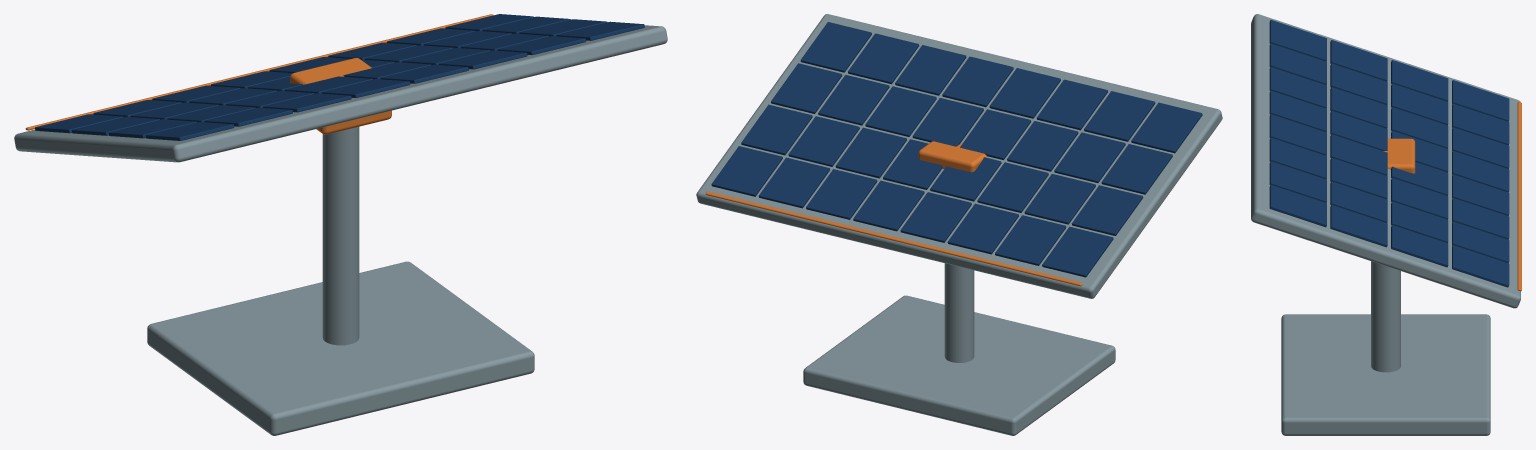
The model's file is solar-array.glb.
The picture shows the model from 3 angles, left to right: view 1: azimuth 30°, elevation 25°; view 2: azimuth 150°, elevation 25°; view 3: azimuth 270°, elevation 25°; orthographic projection. The views are drawn at different scales.
Visible parts, largest first — view 1: metal (×2), blue, orange (×2); view 2: blue, metal (×2), orange (×2); view 3: blue, metal (×2), orange (×2).
Part boxes in pixels (box(x1,y1,x2,y2)): metal (×2): box(14, 25, 667, 435); blue: box(35, 14, 644, 140); orange (×2): box(25, 14, 493, 134); blue: box(711, 22, 1202, 277); metal (×2): box(696, 14, 1222, 435); orange (×2): box(705, 141, 1082, 286); blue: box(1269, 20, 1509, 287); metal (×2): box(1251, 14, 1520, 435); orange (×2): box(1383, 102, 1521, 291).
Bounding box in the file's own units: 2.8 × 1.8 × 1.62.
